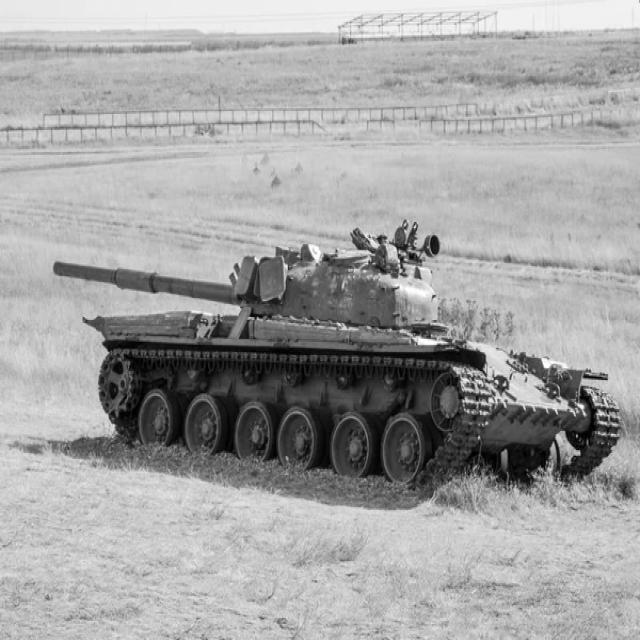Tank: (51, 220, 626, 507)
